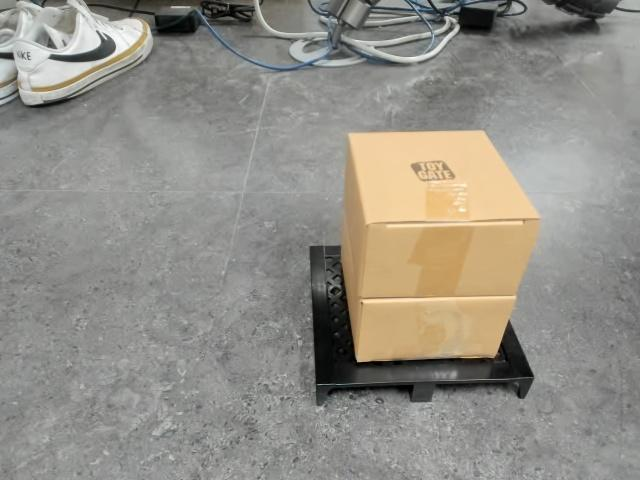box: (309, 127, 544, 407)
